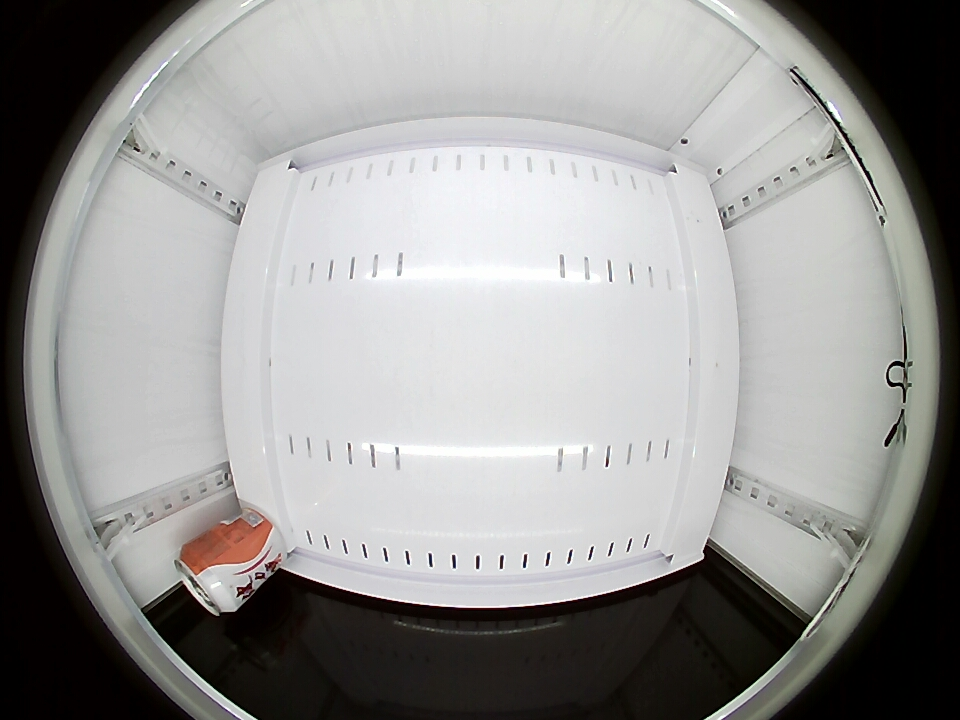jianlibao: (175, 539, 242, 616)
